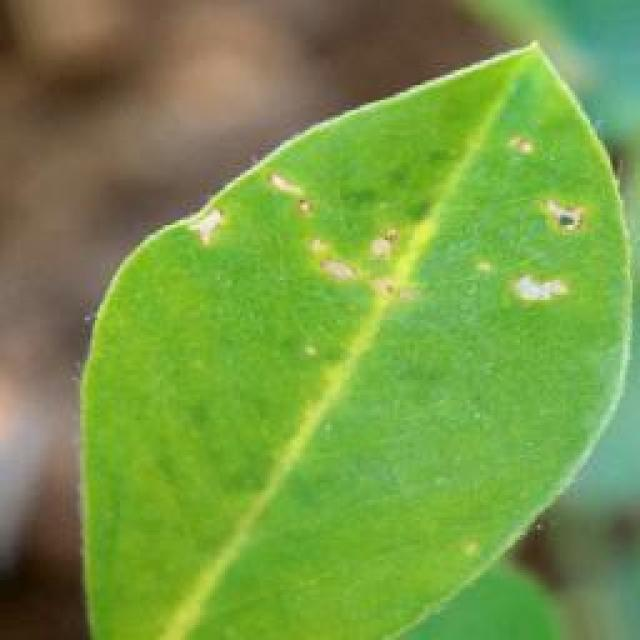Yellow_and_black_sigatoka: (56, 63, 606, 622)
